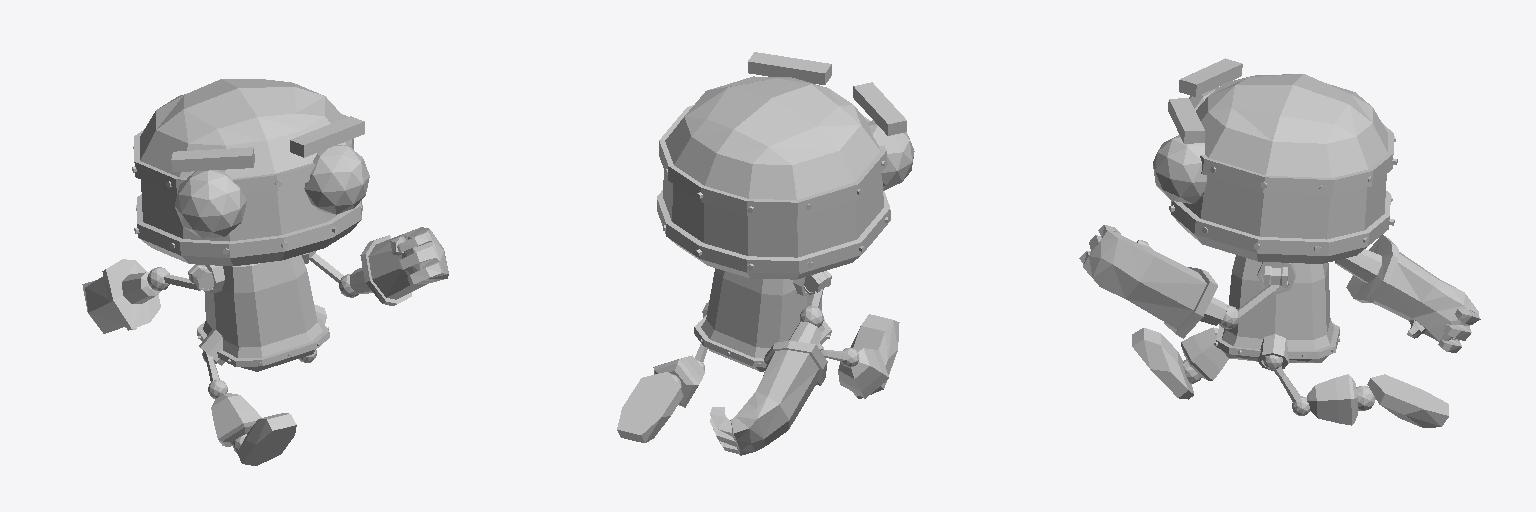
File: Robot_000013.obj
3 views of the same model, side by side, from view 1: azimuth 30°, elevation 25°; view 2: azimuth 150°, elevation 25°; view 3: azimuth 270°, elevation 25° (orthographic).
Parts seen in each view (by area): view 1: Head_Cylinder, Torso_Cube.001, Hand.L_Cylinder.022, Hand.R_Cylinder.015, Foot.R_Cylinder.017, LowerLeg.R_Cylinder.018, Arm.R_Cylinder.013, Arm.L_Cylinder.010; view 2: Head_Cylinder, Torso_Cube.001, Hand.R_Cylinder.015, Foot.L_Cylinder.014, Foot.R_Cylinder.017, LowerLeg.R_Cylinder.018, LowerLeg.L_Cylinder.012; view 3: Head_Cylinder, Torso_Cube.001, Hand.L_Cylinder.022, Hand.R_Cylinder.015, Foot.L_Cylinder.014, LowerLeg.L_Cylinder.012, Foot.R_Cylinder.017, LowerLeg.R_Cylinder.018, Arm.L_Cylinder.010, Leg.L_Cylinder.011.
Part boxes in pixels (x1,y1,x2,y2): Head_Cylinder: (132,79,369,265); Torso_Cube.001: (197,253,329,371); Hand.L_Cylinder.022: (350,227,448,305); Hand.R_Cylinder.015: (82,259,160,333); Foot.R_Cylinder.017: (237,413,296,465); LowerLeg.R_Cylinder.018: (211,393,261,452); Arm.R_Cylinder.013: (147,267,200,290); Arm.L_Cylinder.010: (309,253,358,297); Head_Cylinder: (657,52,914,279); Torso_Cube.001: (694,268,831,371); Hand.R_Cylinder.015: (710,321,827,455); Foot.L_Cylinder.014: (617,372,683,442); Foot.R_Cylinder.017: (851,314,899,398); LowerLeg.R_Cylinder.018: (838,348,888,398); LowerLeg.L_Cylinder.012: (653,355,704,407); Head_Cylinder: (1153,58,1397,263); Torso_Cube.001: (1214,255,1339,370); Hand.L_Cylinder.022: (1079,225,1226,338); Hand.R_Cylinder.015: (1335,234,1480,352); Foot.L_Cylinder.014: (1367,374,1448,427); LowerLeg.L_Cylinder.012: (1307,374,1375,425); Foot.R_Cylinder.017: (1132,328,1193,399); LowerLeg.R_Cylinder.018: (1181,327,1228,383); Arm.L_Cylinder.010: (1219,285,1278,329); Leg.L_Cylinder.011: (1273,367,1310,415).
Bounding box in the file's own units: 2.83 × 4.01 × 4.4.